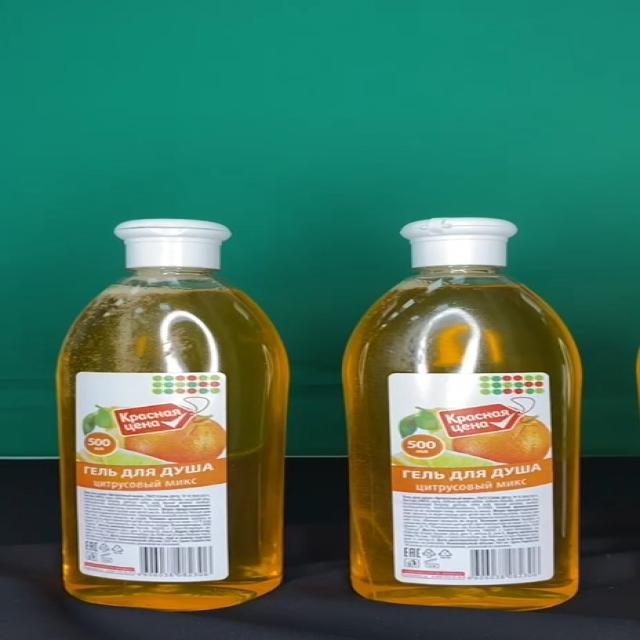Bottle: (343, 217, 582, 611), (55, 218, 289, 612)
Cap: (111, 218, 231, 268), (400, 218, 517, 266)
